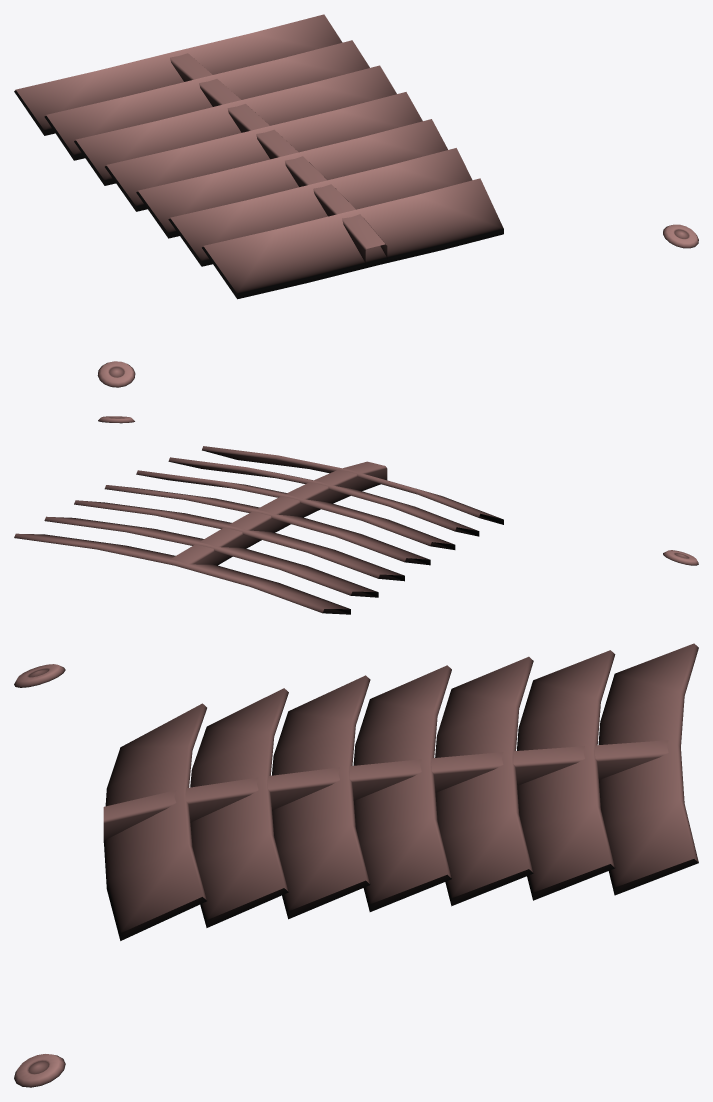
Rendered from Mustang16_Hood_GT_Trim.fbx.
3 views of the same model, one above another, from view 1: azimuth 30°, elevation 25°; view 2: azimuth 150°, elevation 25°; view 3: azimuth 270°, elevation 25° (orthographic). The views are drawn at different scales.
Visible parts, largest first — view 1: Mustang16_Hood_GT_Trim; view 2: Mustang16_Hood_GT_Trim; view 3: Mustang16_Hood_GT_Trim.
Boxes of the visible parts, bbox=[...] form: Mustang16_Hood_GT_Trim: bbox=[14, 14, 698, 387]; Mustang16_Hood_GT_Trim: bbox=[14, 416, 698, 614]; Mustang16_Hood_GT_Trim: bbox=[14, 643, 698, 1087].
Bounding box in the file's own units: 110 × 17.17 × 76.64.
